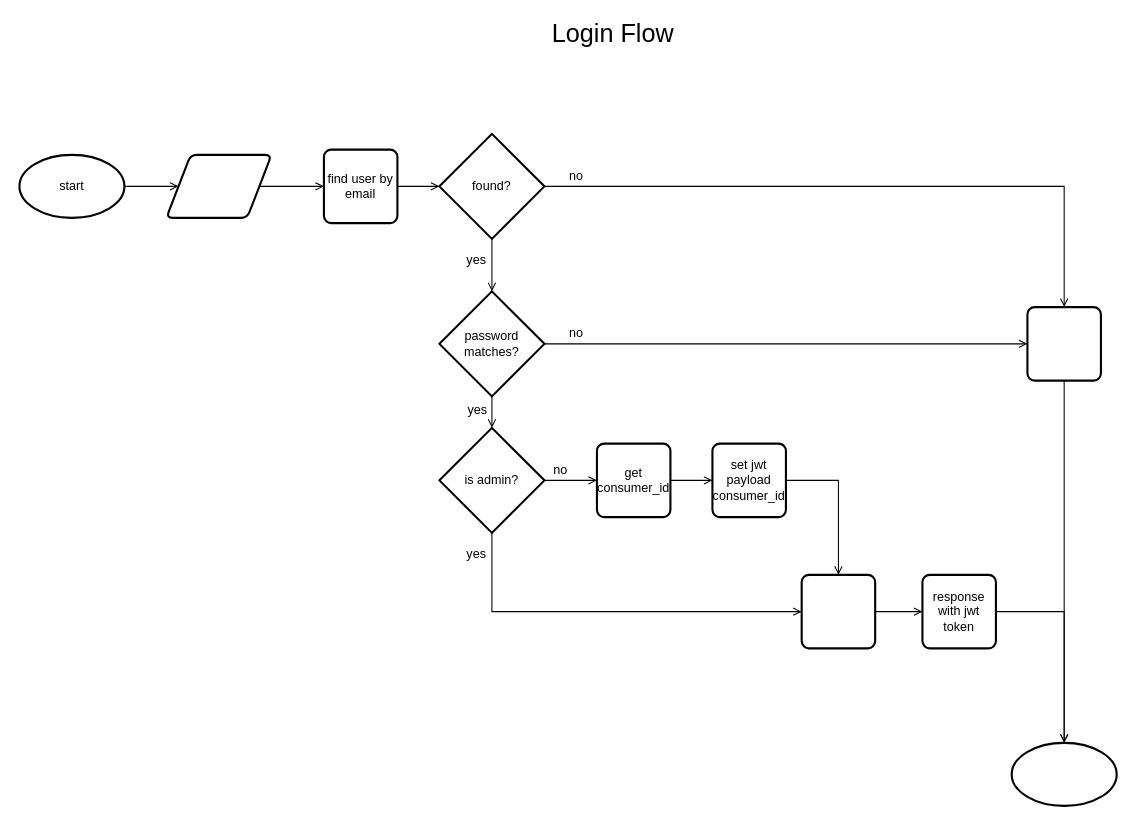
The diagram is 1135 pixels wide and 824 high, and some of its shapes have lost their labels. The centre of each missing label's shape, as x and y in pixels:
email password: point (218, 185)
end: point (1063, 773)
generate token: point (838, 611)
response with invalid credentials (401): point (1063, 343)
